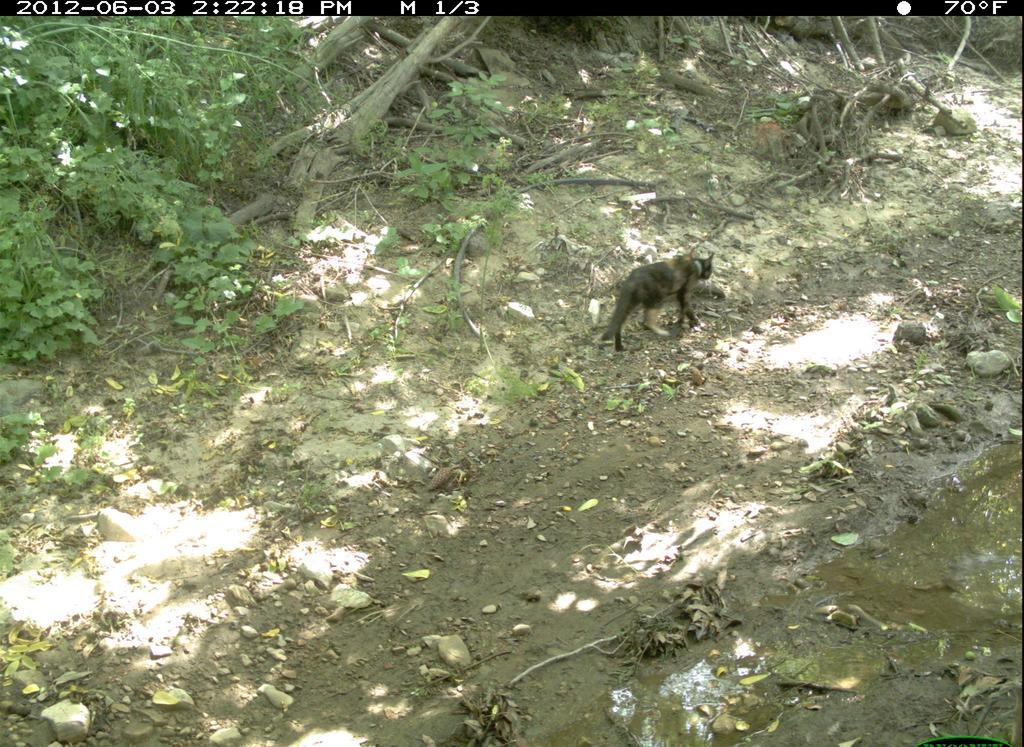cat: (597, 249, 720, 363)
